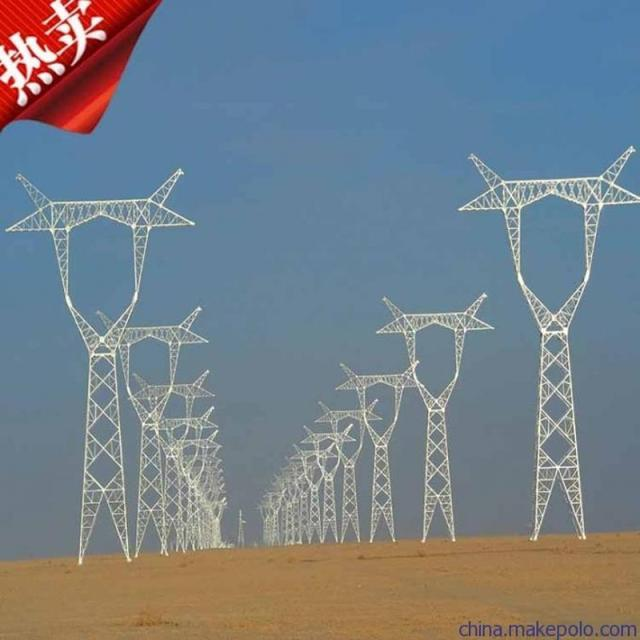non-critical vegetation: (5, 161, 196, 560), (443, 145, 635, 540), (382, 294, 490, 546)
